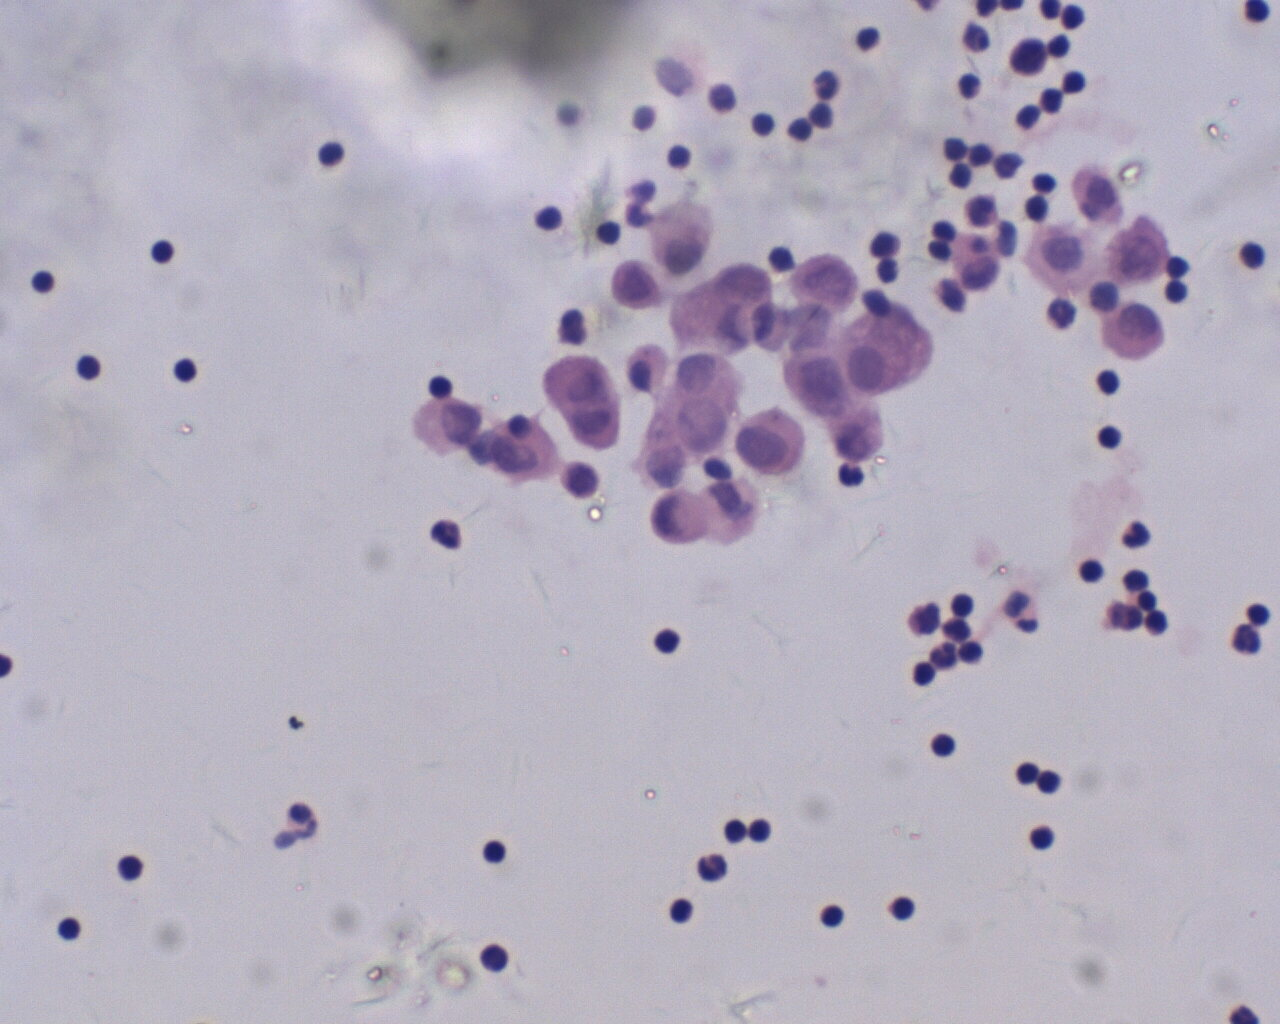ab: (411, 396, 490, 460), (786, 250, 861, 317), (1109, 214, 1176, 286), (607, 256, 667, 316)
lymph: (473, 934, 513, 980), (114, 848, 154, 887), (664, 892, 700, 927), (743, 814, 776, 851), (1026, 823, 1060, 856), (649, 625, 681, 656), (313, 139, 349, 167), (72, 351, 103, 382), (1076, 555, 1108, 585), (171, 356, 201, 386), (1096, 422, 1126, 450), (820, 899, 847, 929), (886, 892, 913, 922), (927, 731, 954, 760), (478, 838, 507, 864), (149, 237, 176, 265)
meso: (1024, 222, 1106, 297), (734, 406, 806, 481), (1102, 300, 1169, 364)
neutro: (426, 515, 469, 554), (1120, 516, 1155, 554)
